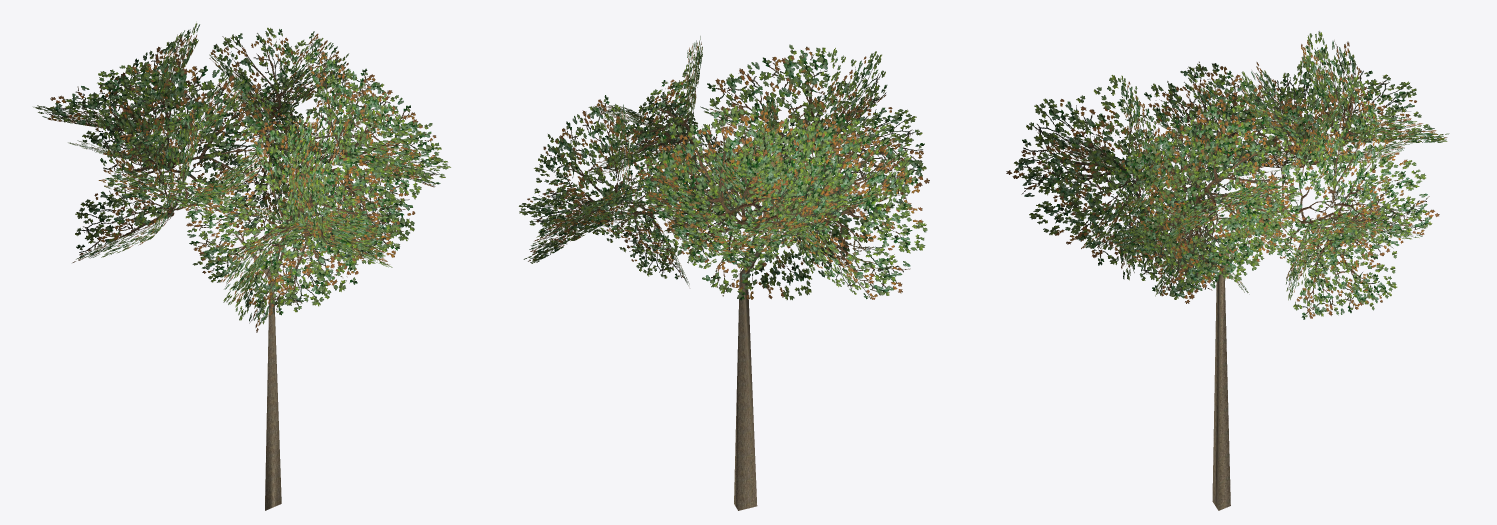
File: decd_mapletreeleaves_a1_l2.fbx
3 views of the same model, side by side, from view 1: azimuth 30°, elevation 25°; view 2: azimuth 150°, elevation 25°; view 3: azimuth 270°, elevation 25° (orthographic). The views are drawn at different scales.
Parts seen in each view (by area): view 1: mesh_node; view 2: mesh_node; view 3: mesh_node.
Boxes of the visible parts, x1,y1,x2,y2 form: mesh_node: (33,23,450,510); mesh_node: (519,36,929,510); mesh_node: (1006,31,1449,510).
Bounding box in the file's own units: 15.69 × 18.7 × 18.41.
2 materials, 2 textured.
